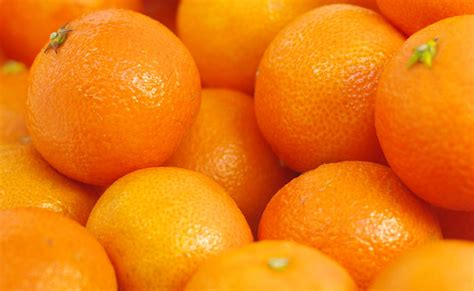orange: (23, 6, 203, 186), (246, 1, 419, 176), (372, 12, 474, 219)
